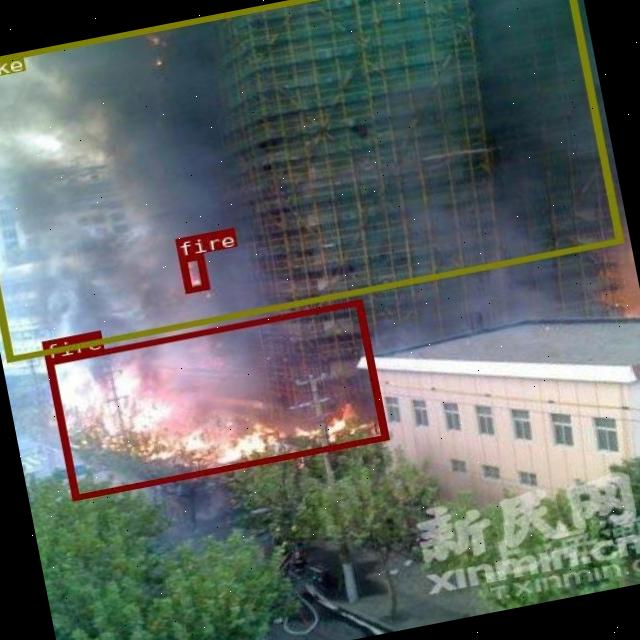fire: (46, 299, 387, 500), (178, 254, 208, 292)
smoke: (0, 0, 621, 361)
